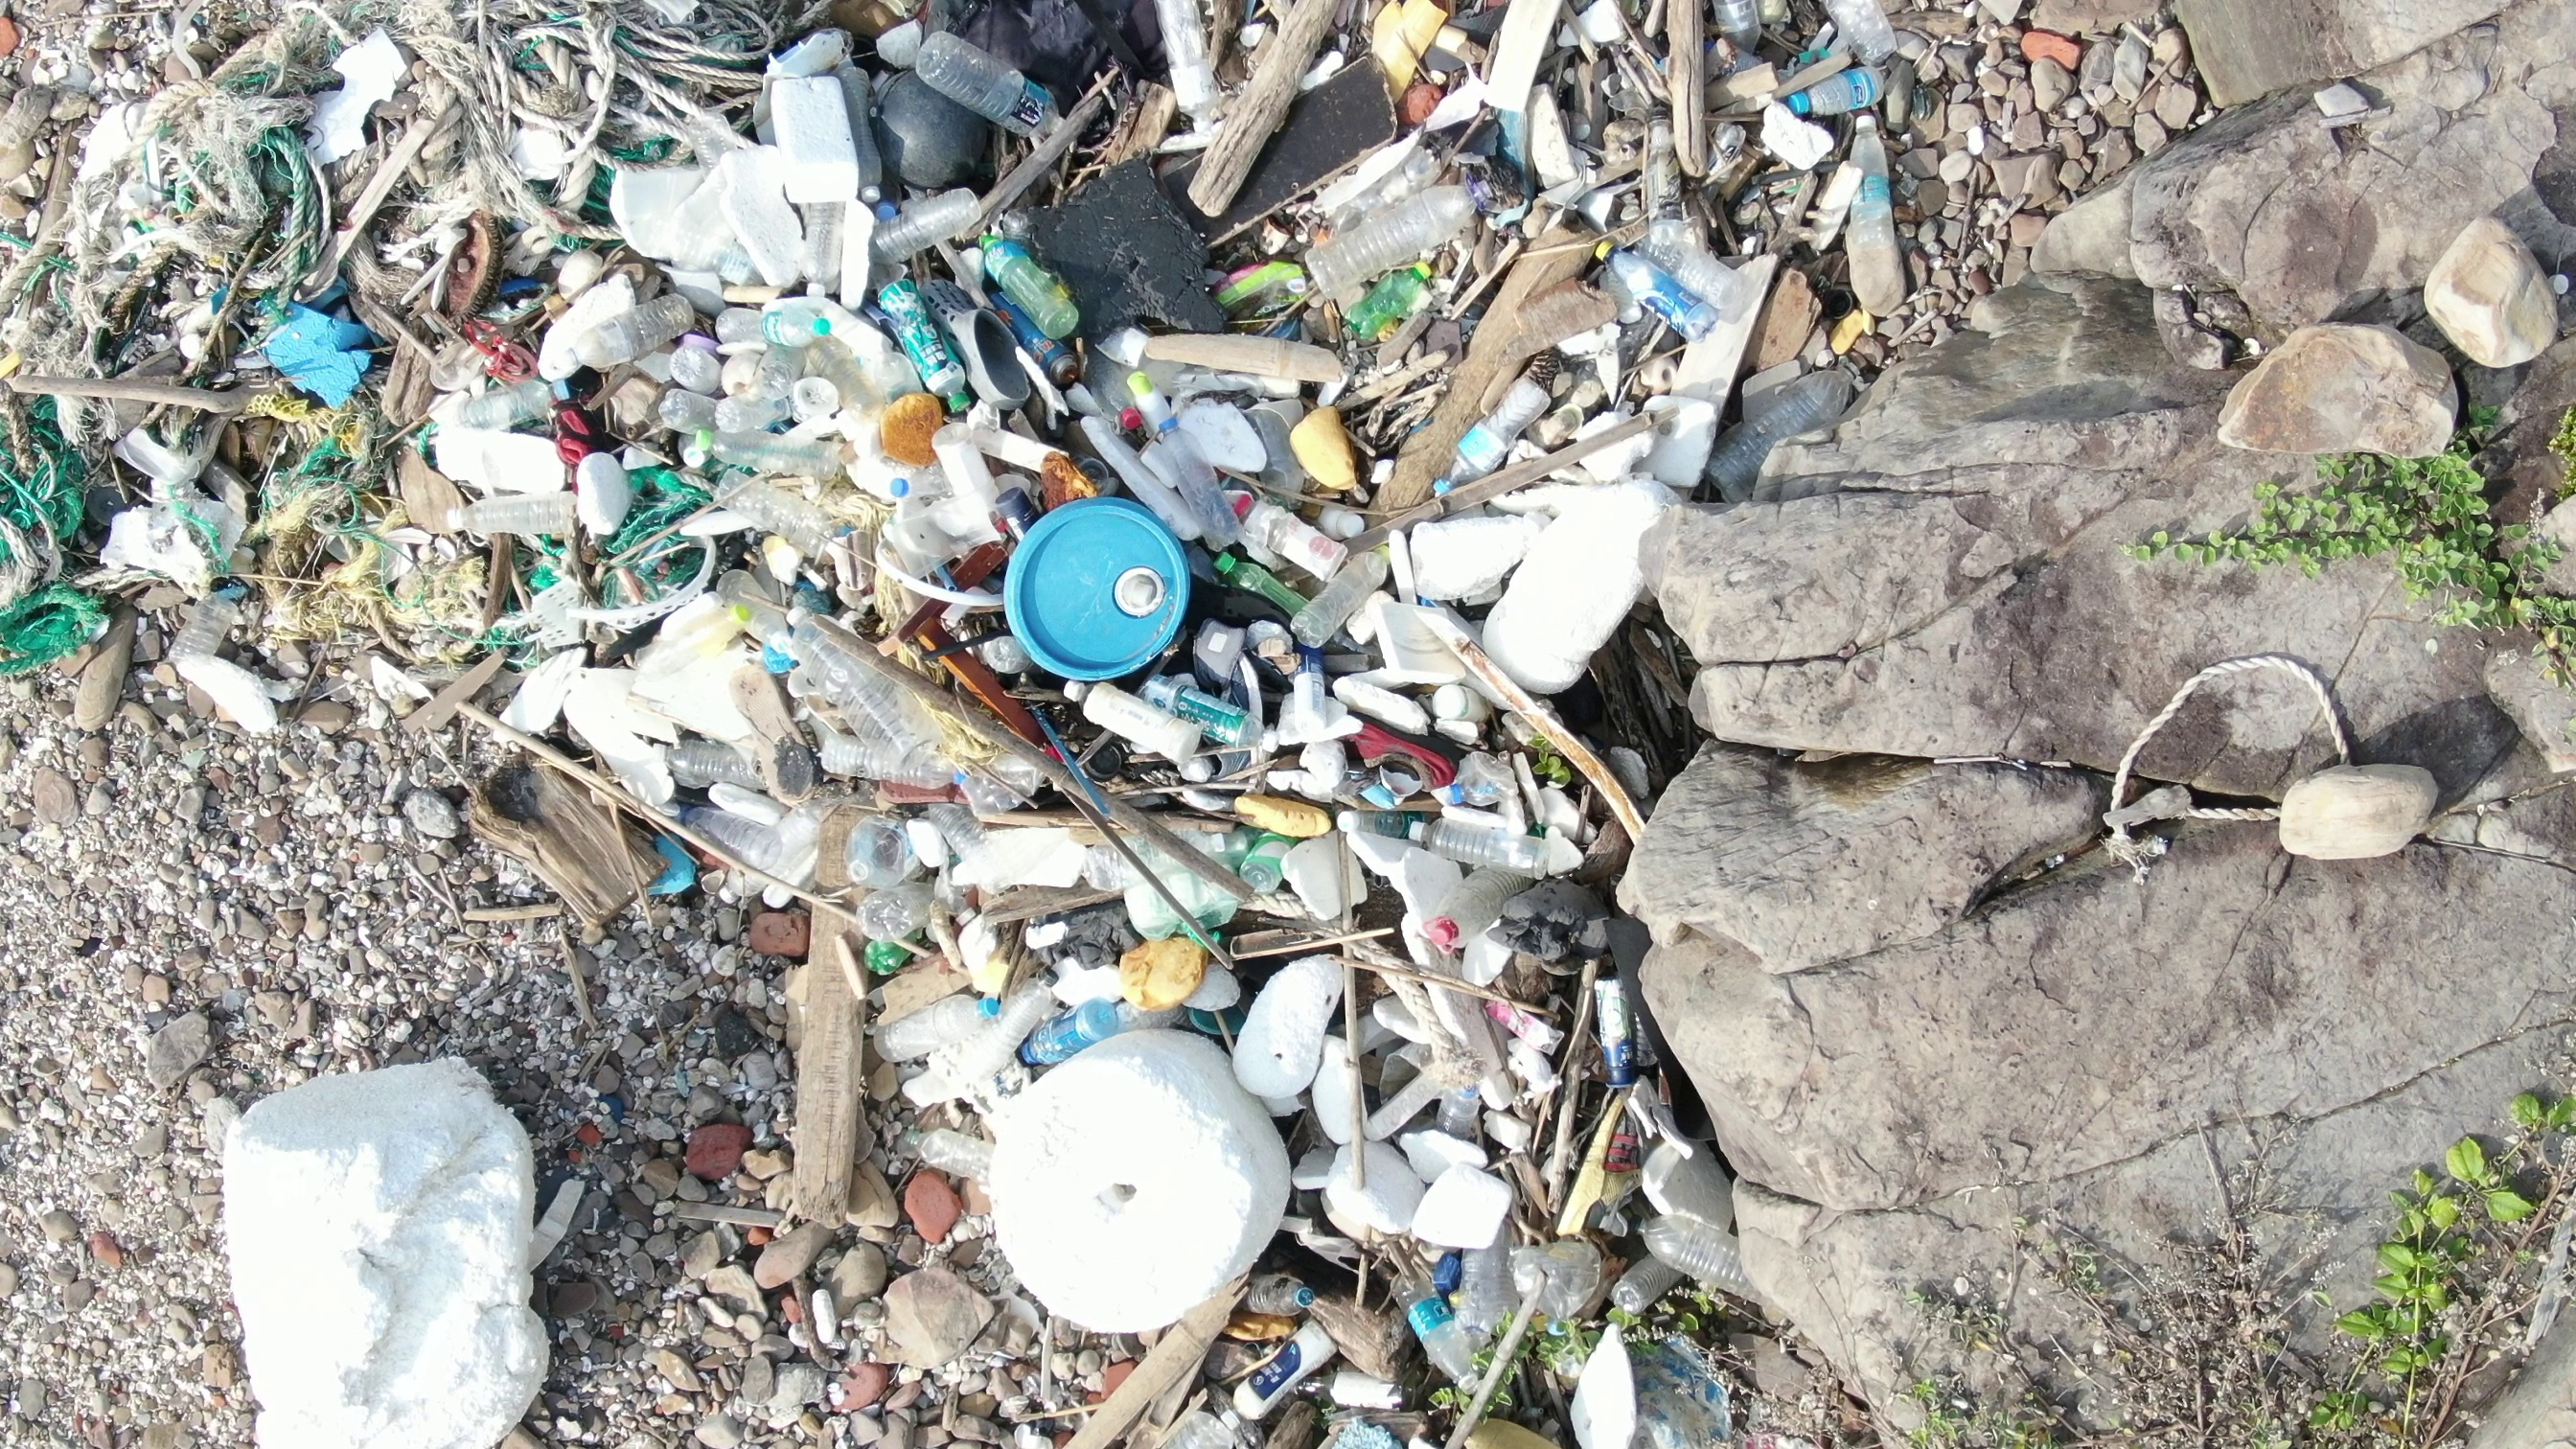bottle: (786, 600, 943, 780), (1313, 175, 1497, 294), (909, 35, 1077, 147), (1621, 1203, 1766, 1329), (1047, 669, 1226, 766), (1435, 366, 1562, 499), (1148, 407, 1256, 561), (878, 272, 975, 416), (1591, 232, 1718, 340), (1380, 1269, 1484, 1399), (865, 985, 1005, 1074), (1136, 669, 1277, 755), (980, 226, 1088, 340), (573, 281, 704, 370), (701, 456, 833, 541), (1290, 547, 1394, 653), (869, 179, 1003, 260), (1336, 260, 1440, 361), (1403, 809, 1548, 881), (1785, 55, 1934, 126), (1408, 870, 1532, 955), (1017, 991, 1139, 1074), (1851, 111, 1902, 308), (1235, 483, 1348, 571), (646, 724, 777, 793), (444, 370, 589, 432), (1210, 543, 1309, 628), (681, 796, 791, 872), (433, 492, 582, 541), (706, 306, 855, 354), (1233, 824, 1297, 904), (1235, 1281, 1323, 1315)
garbage: (9, 16, 1279, 920), (800, 2, 1920, 913), (752, 920, 1752, 1449), (2089, 648, 2410, 856)
